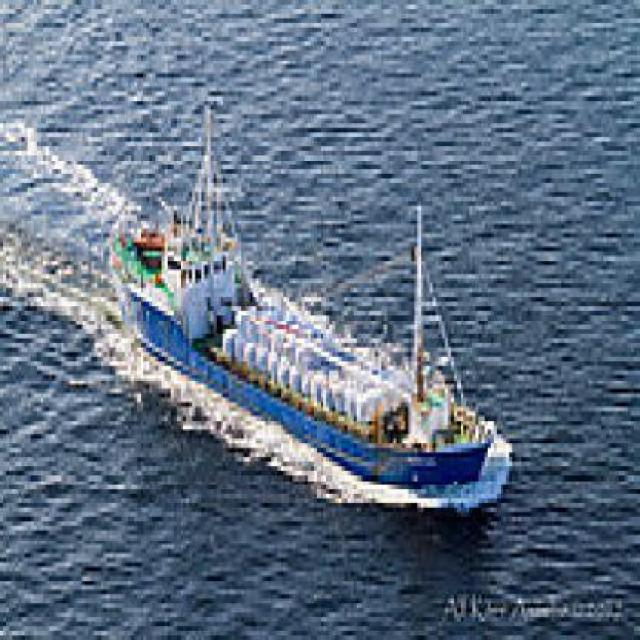container: (101, 79, 526, 526)
